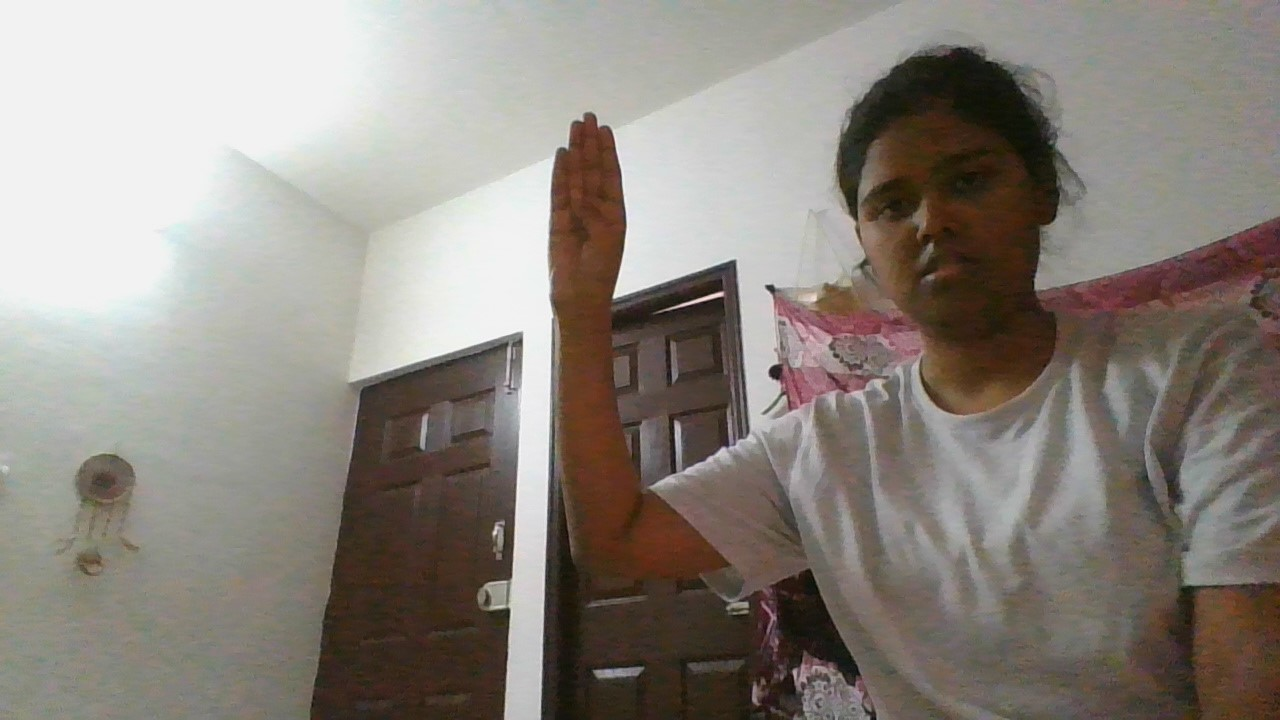b: (535, 105, 634, 330)
